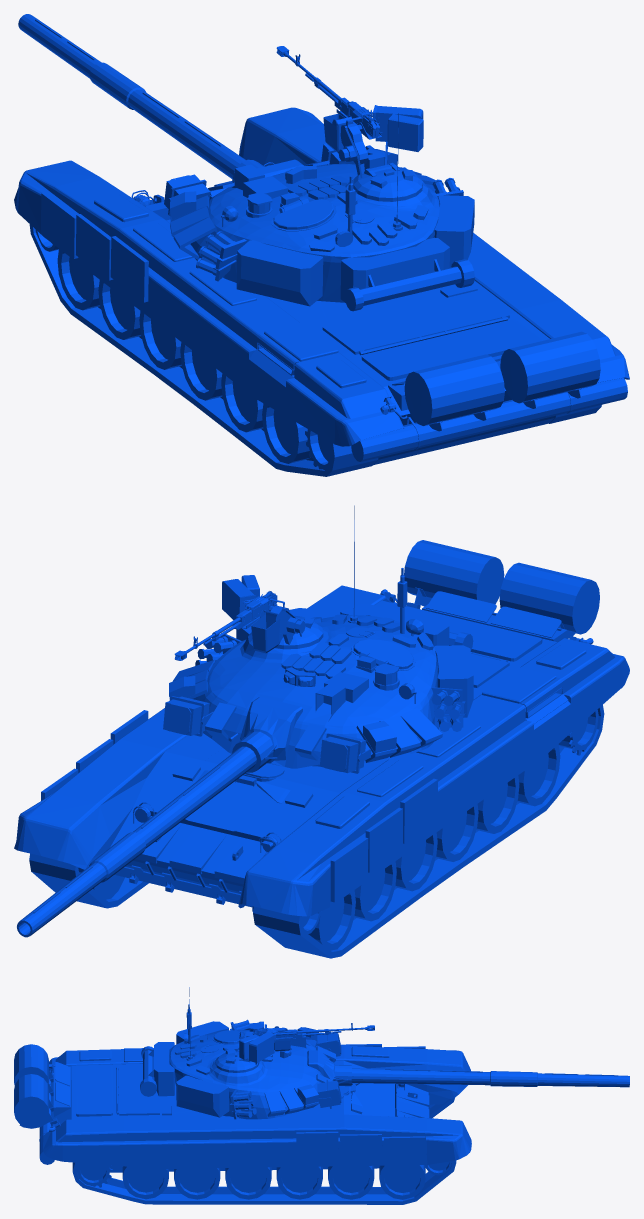
Rendered from DafaultModel.gltf.
3 views of the same model, one above another, from view 1: azimuth 30°, elevation 25°; view 2: azimuth 150°, elevation 25°; view 3: azimuth 270°, elevation 25° (orthographic). The views are drawn at different scales.
Parts seen in each view (by area): view 1: Main_Body_, Turret, Main_Body, gun; view 2: Main_Body_, Turret, Main_Body, gun; view 3: Main_Body_, Turret, Main_Body, gun.
Boxes of the visible parts, x1,y1,x2,y2 form: Main_Body_: [14, 107, 629, 476]; Turret: [18, 14, 474, 311]; Main_Body: [131, 162, 555, 465]; gun: [276, 46, 382, 138]; Main_Body_: [14, 540, 629, 958]; Turret: [17, 505, 473, 937]; Main_Body: [110, 591, 567, 911]; gun: [174, 591, 277, 660]; Main_Body_: [14, 1044, 471, 1204]; Turret: [140, 987, 629, 1119]; Main_Body: [51, 1060, 429, 1172]; gun: [252, 1023, 374, 1042].
Bounding box in the file's own units: 3.27 × 3.11 × 9.46.
Materials: 1 (1 with a texture image).
